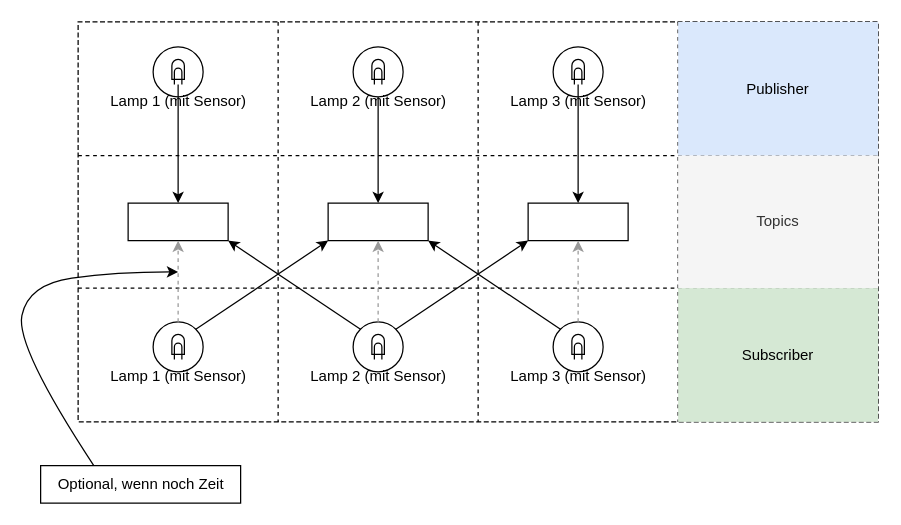
Image size: 901x525. Some labels were removed from this diagram. Here are the shapes that lost their labels. From the top down, the centre of each, then its label:
the point at 177,221: Position 1
the point at 377,221: Position 2
the point at 577,221: Position 3
